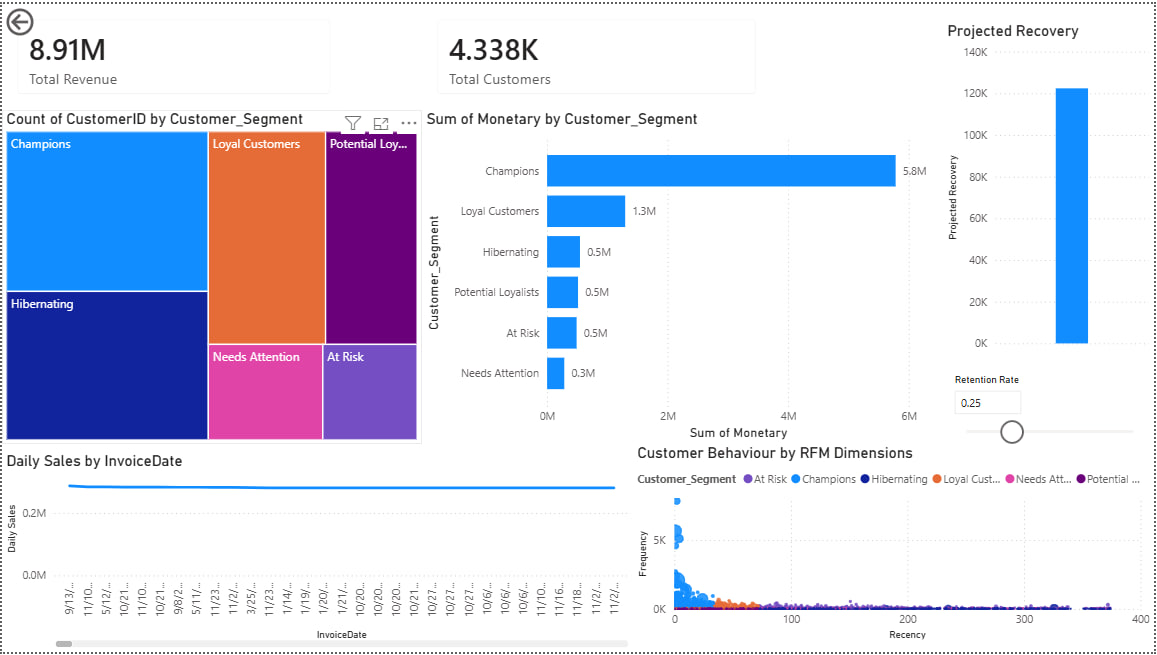

This screenshot's page, from the dashboard's own definition file:
{"tool":"powerbi","page":{"name":"Page 1","canvas":[1280,720],"ordinal":0},"visuals":[{"type":"treemap","fields":{"Group":["Fact_RFM.Customer_Segment"],"Values":["CountNonNull(Fact_RFM.CustomerID)"]},"box":[0,117.5,466.2,371.2],"z":0},{"type":"clusteredBarChart","fields":{"Category":["Fact_RFM.Customer_Segment"],"Y":["Sum(Fact_RFM.Monetary)"]},"box":[466.2,117.5,578.8,371.2],"z":1},{"type":"cardVisual","fields":{"Data":["Sum(Fact_RFM.Monetary)"]},"box":[0,0,466.2,117.5],"z":2},{"type":"cardVisual","fields":{"Data":["CountNonNull(Fact_RFM.CustomerID)"]},"box":[468.8,0,576.2,117.5],"z":3},{"type":"lineChart","fields":{"Y":["Sum(Fact_RFM.Monetary)"],"Category":["data.InvoiceDate"]},"box":[0,498.2,1170,221.8],"z":4},{"type":"slicer","fields":{"Values":["Retention Rate.Retention Rate"]},"box":[1045,498.8,235,102.5],"z":5},{"type":"actionButton","box":[0,0,100,40],"z":6},{"type":"clusteredColumnChart","fields":{"Y":["Fact_RFM.Projected Recovery"]},"box":[1045,117.5,235,371.2],"z":7}]}

Visuals, with their boxes in screenshot pixels (x1, y1, x2, y2), scaled from the page's 1280x720 canvas onto the 1157x655 screenshot:
treemap - Fact_RFM.Customer_Segment x CountNonNull(Fact_RFM.CustomerID): 0,107,421,445
clusteredBarChart - Fact_RFM.Customer_Segment x Sum(Fact_RFM.Monetary): 421,107,945,445
cardVisual - Sum(Fact_RFM.Monetary): 0,0,421,107
cardVisual - CountNonNull(Fact_RFM.CustomerID): 424,0,945,107
lineChart - Sum(Fact_RFM.Monetary) x data.InvoiceDate: 0,453,1058,654
slicer - Retention Rate.Retention Rate: 945,454,1156,547
actionButton: 0,0,90,36
clusteredColumnChart - Fact_RFM.Projected Recovery: 945,107,1156,445
